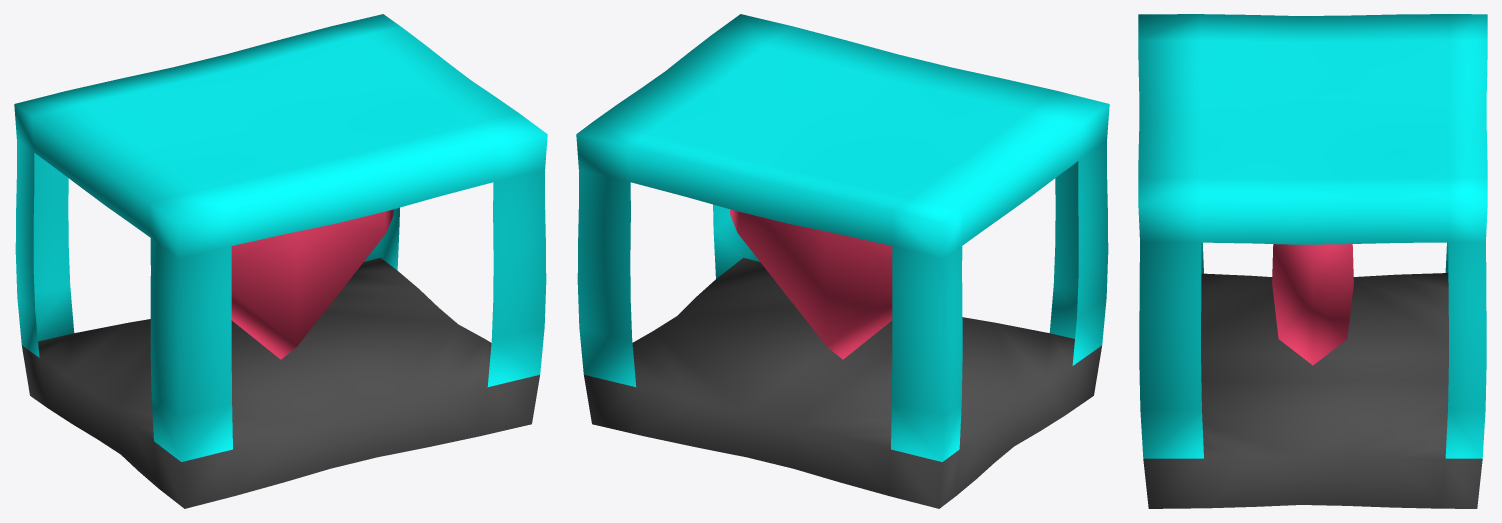
File: player.obj
3 views of the same model, side by side, from view 1: azimuth 30°, elevation 25°; view 2: azimuth 150°, elevation 25°; view 3: azimuth 270°, elevation 25° (orthographic). The views are drawn at different scales.
Parts seen in each view (by area): view 1: 立方体.002; view 2: 立方体.002; view 3: 立方体.002.
Boxes of the visible parts, x1,y1,x2,y2 form: 立方体.002: [14, 14, 547, 508]; 立方体.002: [576, 14, 1109, 508]; 立方体.002: [1138, 14, 1487, 508].
Size of the model in its own units: 0.9245 by 0.697 by 0.7134.
1 material, 1 textured.
